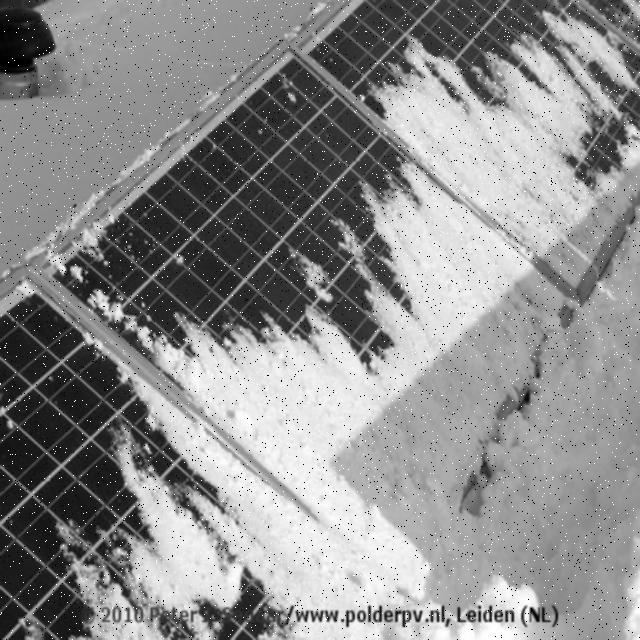snow covered: (87, 15, 637, 604)
